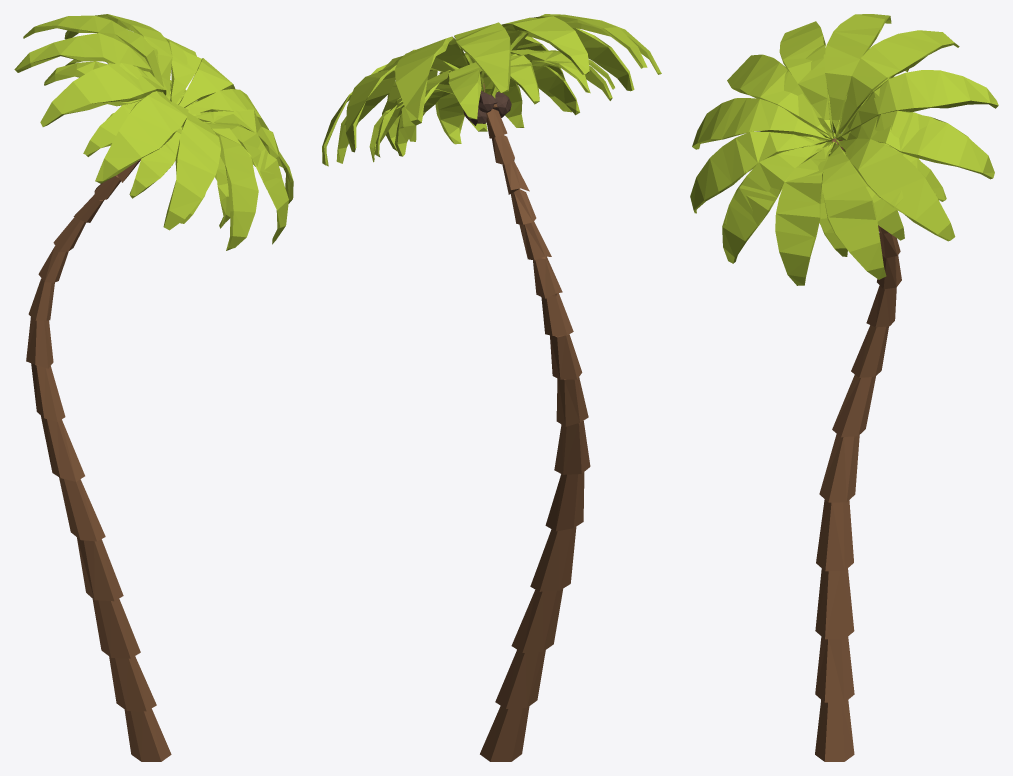
Rendered from PalmTree1.fbx.
3 views of the same model, side by side, from view 1: azimuth 30°, elevation 25°; view 2: azimuth 150°, elevation 25°; view 3: azimuth 270°, elevation 25° (orthographic). The views are drawn at different scales.
Visible parts, largest first — view 1: Cube.007; view 2: Cube.007; view 3: Cube.007.
Part boxes in pixels (x1,y1,x2,y2): Cube.007: (14,14,293,761); Cube.007: (322,14,661,761); Cube.007: (690,14,998,761).
Size of the model in its own units: 514 by 1359 by 540.
